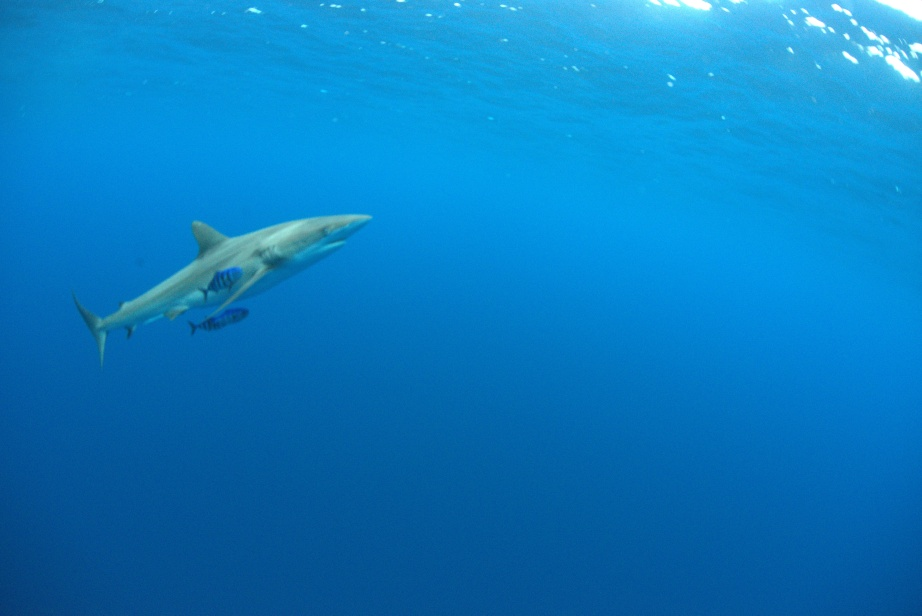Sedoso: (54, 193, 384, 381)
